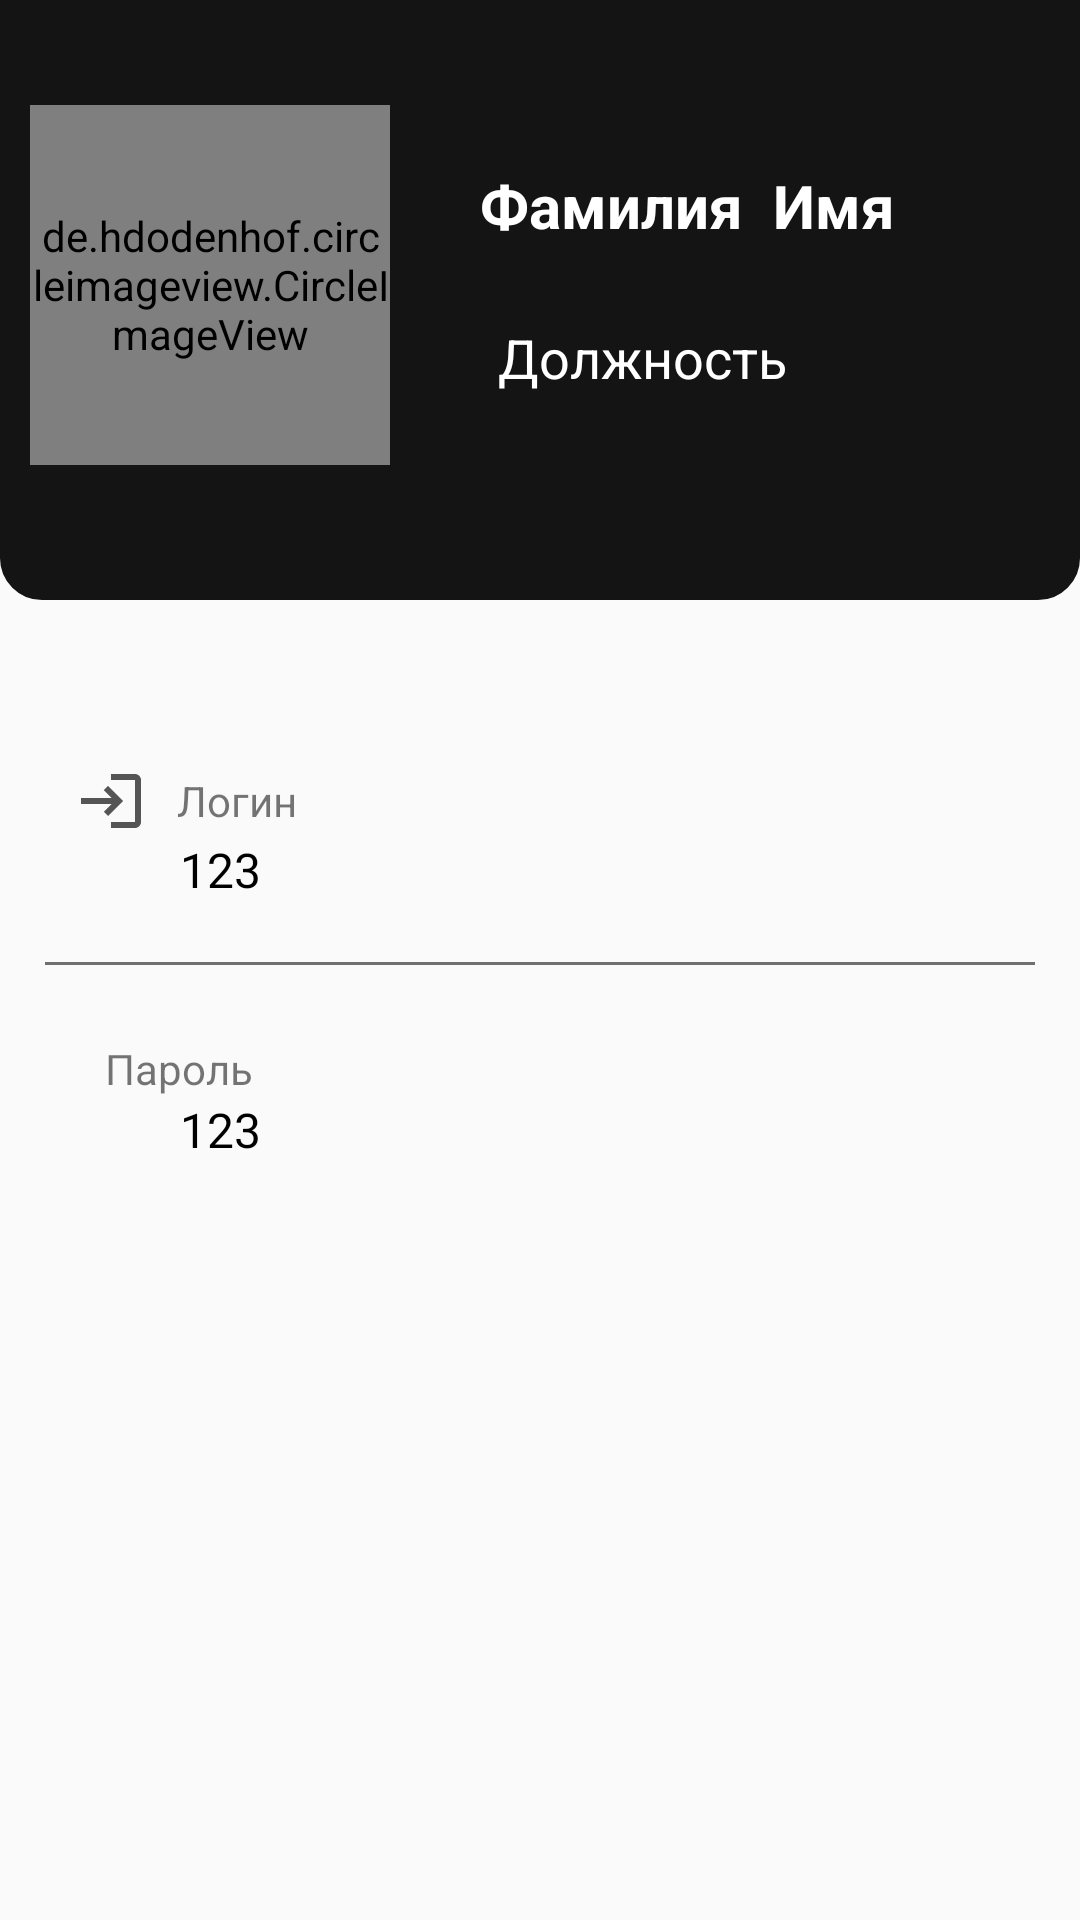

Icons on this 1080 x 1920 Android screen, each with its box as rect(x1, y1, x2, y2):
login: rect(81, 774, 141, 828)
